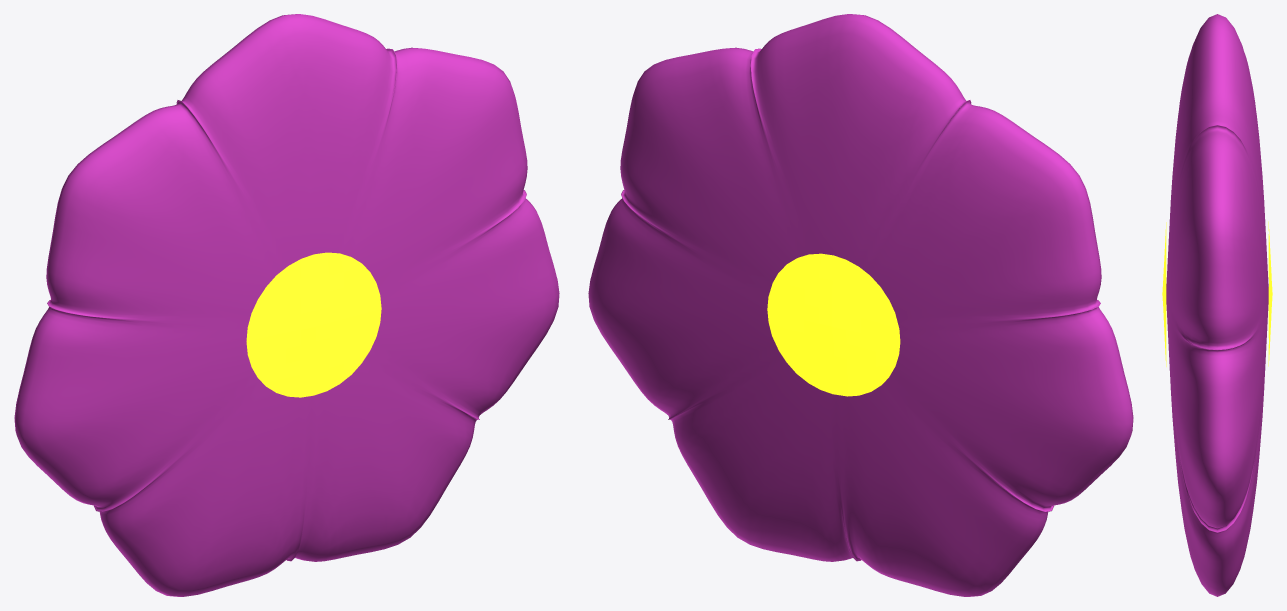
Rendered from flower1.fbx.
The picture shows the model from 3 angles, left to right: view 1: azimuth 30°, elevation 25°; view 2: azimuth 150°, elevation 25°; view 3: azimuth 270°, elevation 25°; orthographic projection. The views are drawn at different scales.
Parts seen in each view (by area): view 1: Circle.001, Plane.023; view 2: Circle.001, Plane.024; view 3: Circle.001, Plane.023, Plane.024.
Boxes of the visible parts, <box> form: Circle.001: <box>14,14,559,596</box>; Plane.023: <box>246,252,381,397</box>; Circle.001: <box>588,14,1133,596</box>; Plane.024: <box>767,253,900,396</box>; Circle.001: <box>1166,14,1268,596</box>; Plane.023: <box>1162,222,1166,366</box>; Plane.024: <box>1268,221,1272,366</box>.
Size of the model in its own units: 166 by 163 by 30.92.
